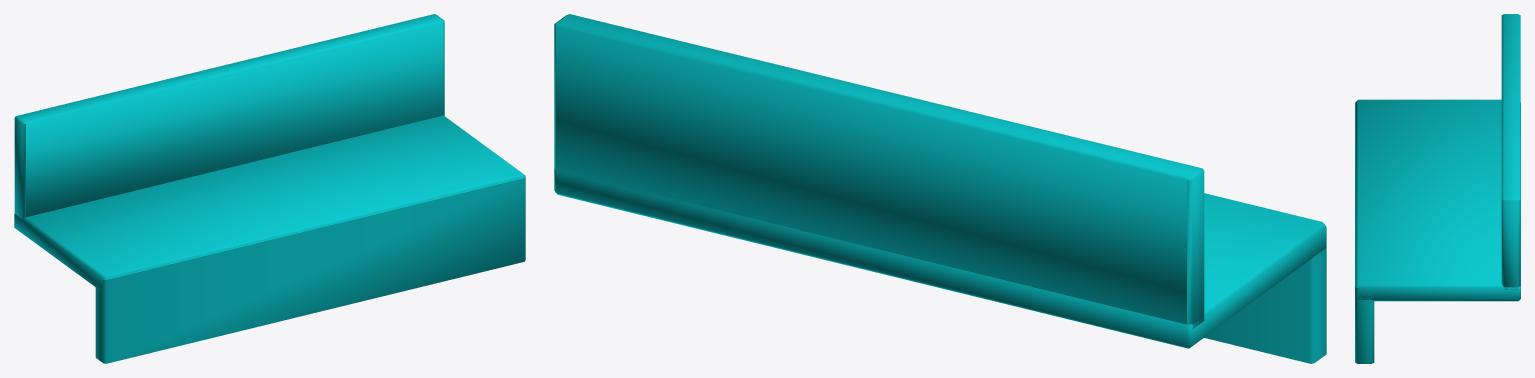
Rendered from PoolSide.fbx.
3 views of the same model, side by side, from view 1: azimuth 30°, elevation 25°; view 2: azimuth 150°, elevation 25°; view 3: azimuth 270°, elevation 25° (orthographic). The views are drawn at different scales.
Parts seen in each view (by area): view 1: obj2, obj3, obj1; view 2: obj2, obj1, obj3; view 3: obj1, obj2, obj3.
Boxes of the visible parts, bbox=[...] form: obj2: bbox=[14, 14, 444, 219]; obj3: bbox=[95, 176, 525, 363]; obj1: bbox=[14, 115, 525, 291]; obj2: bbox=[554, 14, 1204, 328]; obj1: bbox=[554, 169, 1326, 348]; obj3: bbox=[1204, 227, 1326, 363]; obj1: bbox=[1355, 99, 1520, 301]; obj2: bbox=[1501, 14, 1520, 289]; obj3: bbox=[1355, 102, 1374, 363].
Size of the model in its own units: 177 by 73.56 by 66.65.
